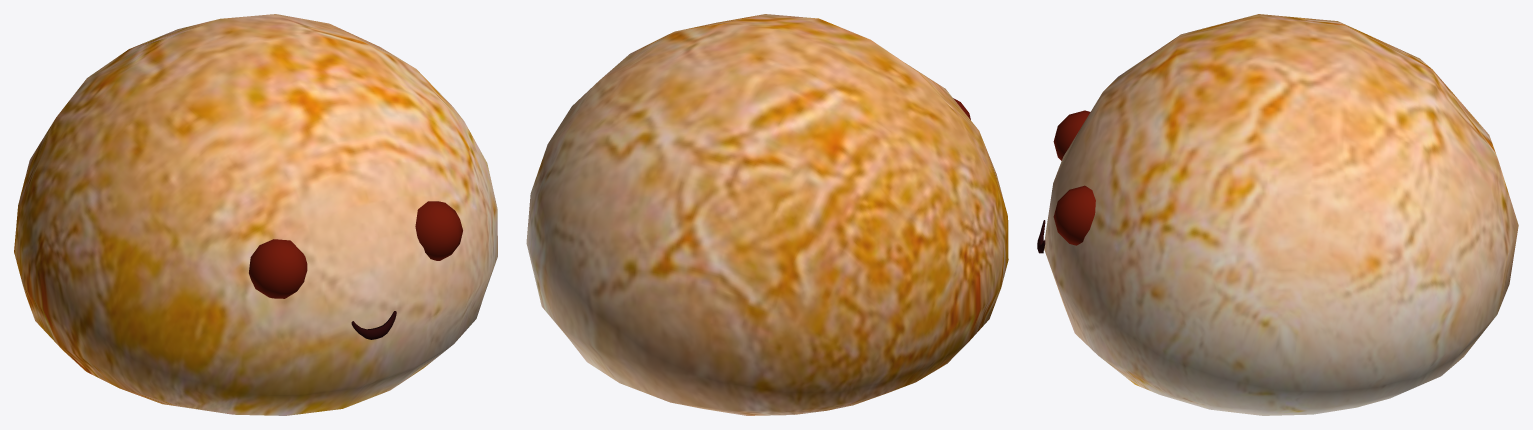
The model's file is testcreature.glb.
The picture shows the model from 3 angles, left to right: view 1: azimuth 30°, elevation 25°; view 2: azimuth 150°, elevation 25°; view 3: azimuth 270°, elevation 25°; orthographic projection.
Visible parts, largest first — view 1: Body, Eye01, Eye02, Cube; view 2: Body; view 3: Body, Eye02, Eye01.
Part boxes in pixels (left/top/right/bottom): Body: left=14, top=14, right=497, bottom=415; Eye01: left=249, top=239, right=307, bottom=298; Eye02: left=415, top=201, right=462, bottom=260; Cube: left=351, top=311, right=396, bottom=339; Body: left=526, top=14, right=1008, bottom=415; Body: left=1044, top=14, right=1518, bottom=415; Eye02: left=1053, top=185, right=1095, bottom=245; Eye01: left=1053, top=110, right=1090, bottom=160.
Size of the model in its own units: 1.09 by 0.822 by 1.07.
Materials: 2 (2 with a texture image).
